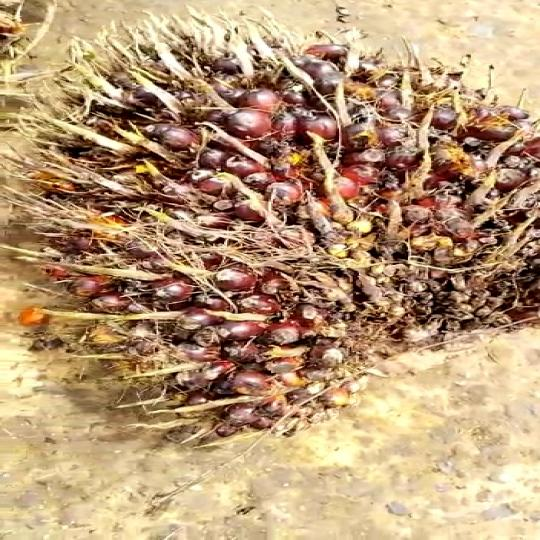masak: (13, 14, 540, 445)
